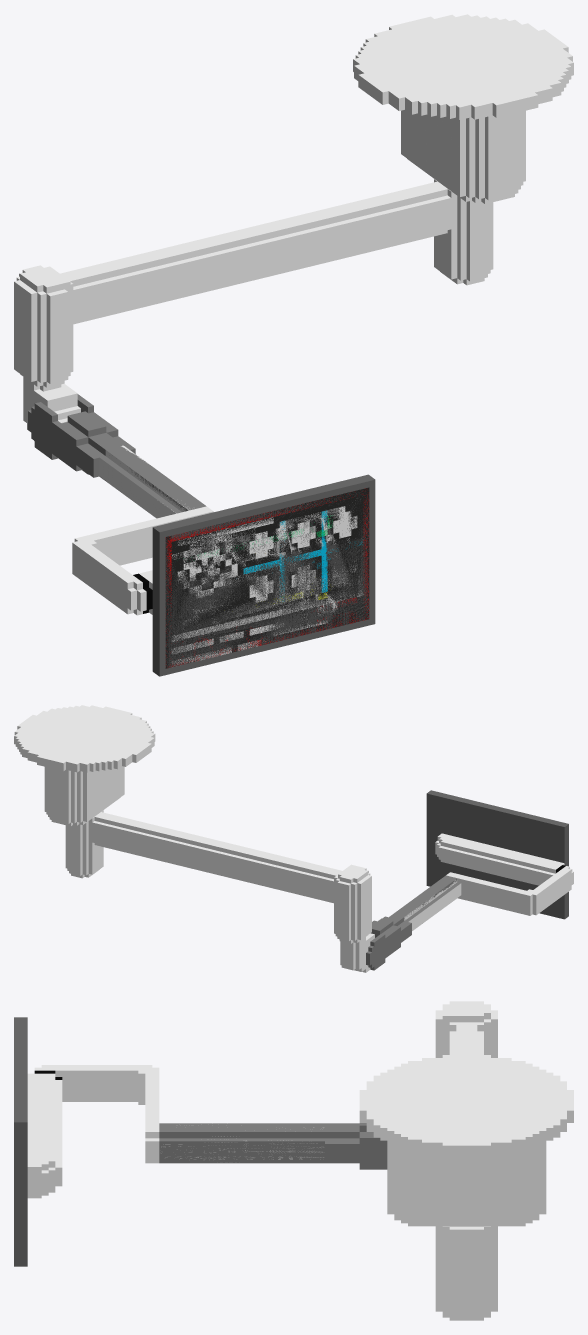
File: Operating room Monitor1.fbx
The picture shows the model from 3 angles, top to bottom: view 1: azimuth 30°, elevation 25°; view 2: azimuth 150°, elevation 25°; view 3: azimuth 270°, elevation 25°; orthographic projection. The views are drawn at different scales.
Visible parts, largest first — view 1: Operating room Monitor1.012, Operating room Monitor1.016, Operating room Monitor1.013, Operating room Monitor1.006, Operating room Monitor1.014, Operating room Monitor1.001, Operating room Monitor1.009, Operating room Monitor1.004, Operating room Monitor1.000, Operating room Monitor1.008, Operating room Monitor1.003, Operating room Monitor1.015 (+4 smaller); view 2: Operating room Monitor1.001, Operating room Monitor1.012, Operating room Monitor1.013, Operating room Monitor1.014, Operating room Monitor1.000, Operating room Monitor1.009, Operating room Monitor1.015, Operating room Monitor1.008, Operating room Monitor1.007, Operating room Monitor1.010, Operating room Monitor1.011; view 3: Operating room Monitor1.013, Operating room Monitor1.014, Operating room Monitor1.001, Operating room Monitor1.007, Operating room Monitor1.015, Operating room Monitor1.000, Operating room Monitor1.008, Operating room Monitor1.009, Operating room Monitor1.012.
Boxes of the visible parts, <box> form: Operating room Monitor1.012: <box>60,181,451,324</box>; Operating room Monitor1.016: <box>165,487,369,668</box>; Operating room Monitor1.013: <box>353,14,573,119</box>; Operating room Monitor1.006: <box>165,489,369,668</box>; Operating room Monitor1.014: <box>401,110,525,203</box>; Operating room Monitor1.001: <box>133,474,375,676</box>; Operating room Monitor1.009: <box>14,265,73,387</box>; Operating room Monitor1.004: <box>165,488,369,666</box>; Operating room Monitor1.000: <box>72,506,213,615</box>; Operating room Monitor1.008: <box>28,394,135,480</box>; Operating room Monitor1.003: <box>166,488,368,663</box>; Operating room Monitor1.015: <box>434,179,493,285</box>; Operating room Monitor1.001: <box>426,790,568,919</box>; Operating room Monitor1.012: <box>92,812,341,903</box>; Operating room Monitor1.013: <box>14,705,155,772</box>; Operating room Monitor1.014: <box>44,766,124,826</box>; Operating room Monitor1.000: <box>446,866,573,915</box>; Operating room Monitor1.009: <box>334,864,371,943</box>; Operating room Monitor1.015: <box>65,810,103,878</box>; Operating room Monitor1.008: <box>366,914,411,970</box>; Operating room Monitor1.007: <box>393,875,460,921</box>; Operating room Monitor1.010: <box>340,933,374,972</box>; Operating room Monitor1.011: <box>404,880,461,930</box>; Operating room Monitor1.013: <box>359,1055,573,1158</box>; Operating room Monitor1.014: <box>387,1143,546,1226</box>; Operating room Monitor1.001: <box>14,1017,62,1266</box>; Operating room Monitor1.007: <box>159,1123,324,1163</box>; Operating room Monitor1.015: <box>435,1226,497,1320</box>; Operating room Monitor1.000: <box>34,1065,159,1163</box>; Operating room Monitor1.008: <box>325,1123,387,1169</box>; Operating room Monitor1.009: <box>435,1001,497,1057</box>; Operating room Monitor1.012: <box>449,1025,483,1054</box>.
Bounding box in the file's own units: 10.7 × 5.1 × 8.1.
